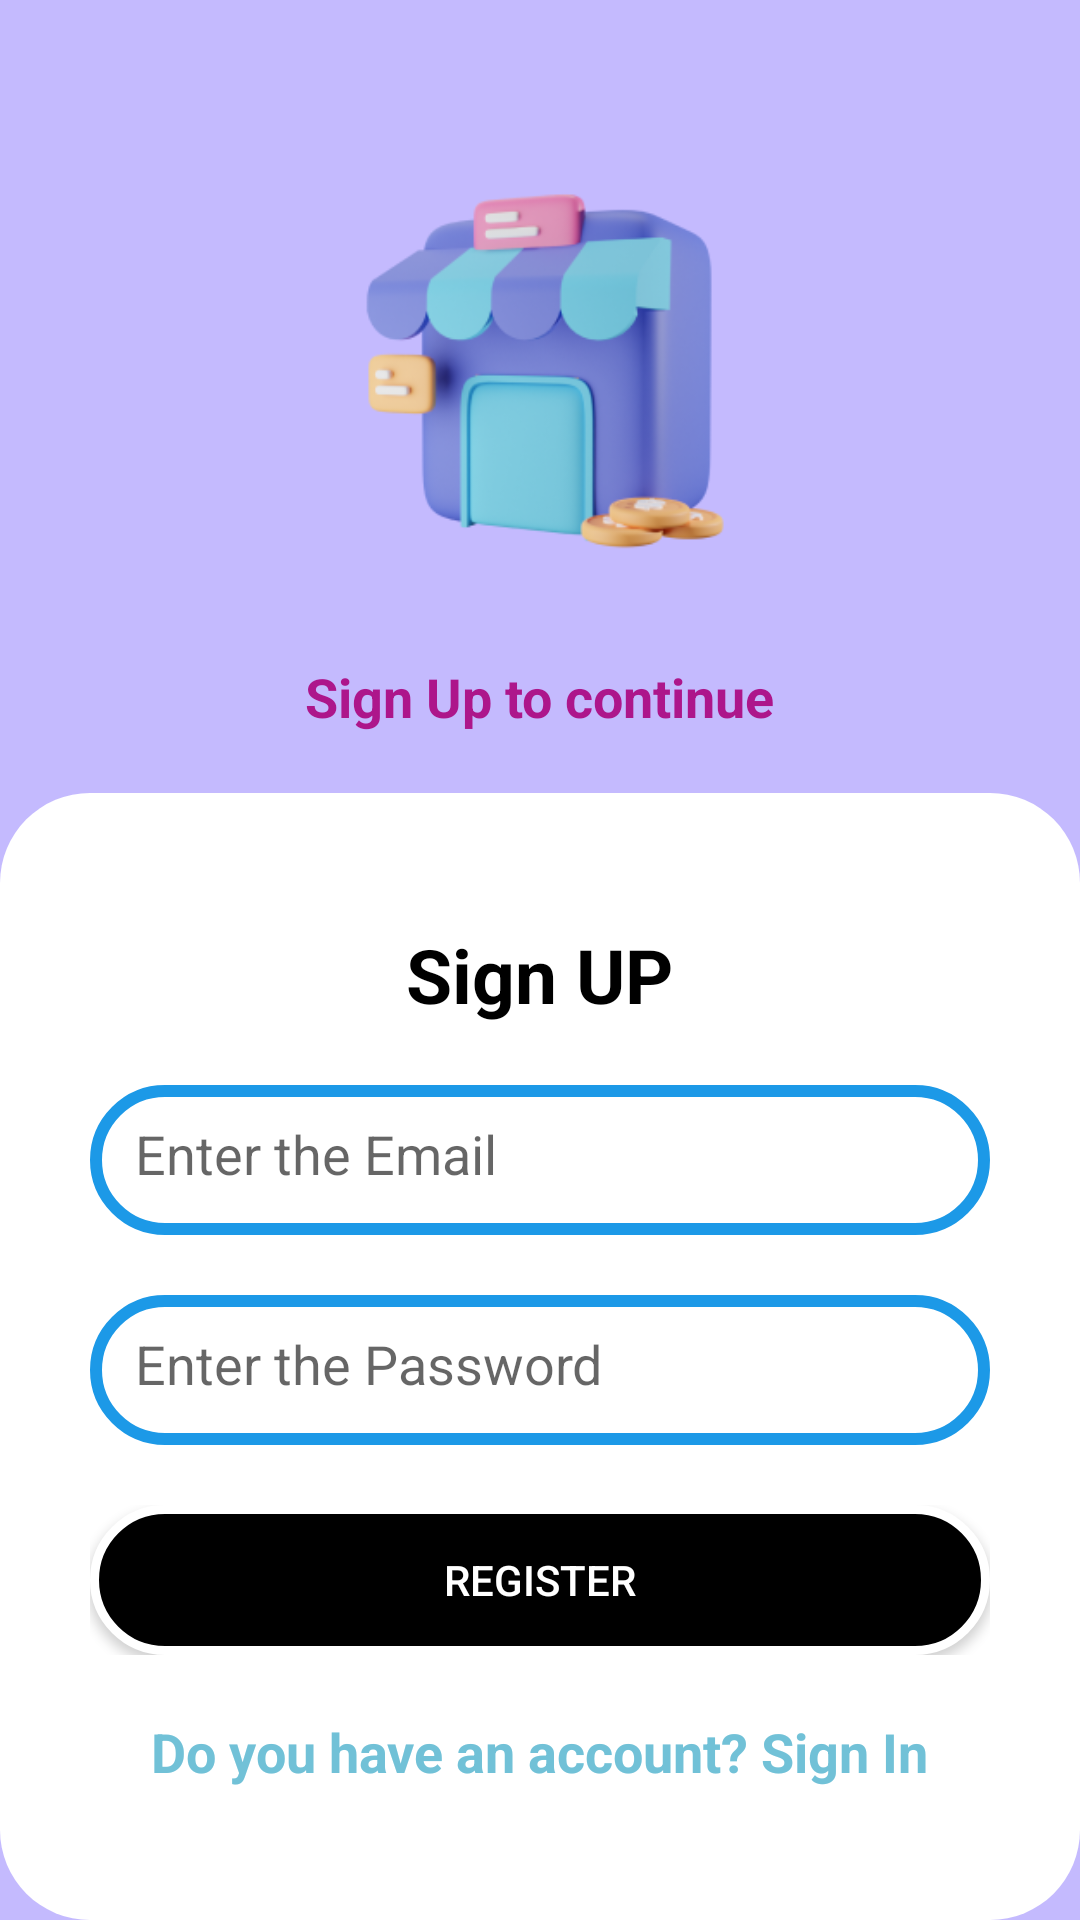

Locate icon controls on the screen. Image size 1080*1920, boxes as (x1=x1, y1=y1, x2=x2, y2=y2).
logimg: (x1=367, y1=194, x2=724, y2=548)
